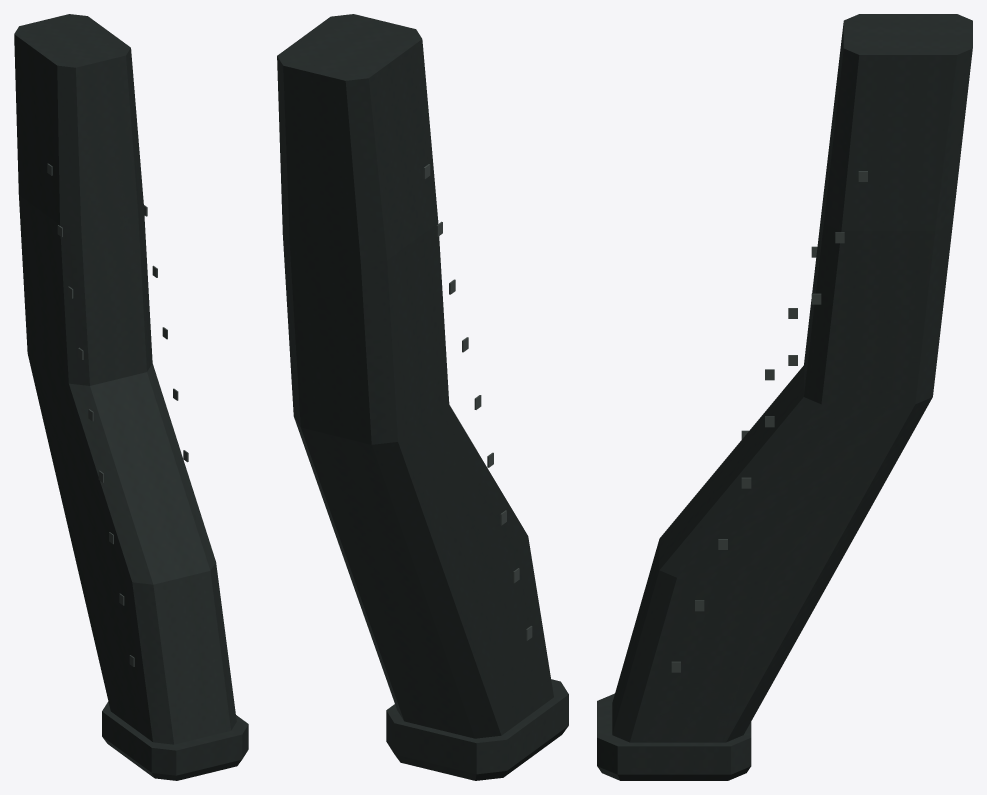
Rendered from glock_33.glb.
The picture shows the model from 3 angles, left to right: view 1: azimuth 30°, elevation 25°; view 2: azimuth 150°, elevation 25°; view 3: azimuth 270°, elevation 25°; orthographic projection. The views are drawn at different scales.
Visible parts, largest first — view 1: glock_33_shell_0, glock_33_shell_1, glock_33_witness; view 2: glock_33_shell_0, glock_33_shell_1, glock_33_witness; view 3: glock_33_shell_0, glock_33_shell_1, glock_33_witness.
Boxes of the visible parts, x1=… form: glock_33_shell_0: x1=14, y1=14, x2=248, y2=780; glock_33_shell_1: x1=28, y1=56, x2=151, y2=740; glock_33_witness: x1=47, y1=163, x2=188, y2=666; glock_33_shell_0: x1=277, y1=14, x2=568, y2=780; glock_33_shell_1: x1=283, y1=66, x2=552, y2=738; glock_33_witness: x1=423, y1=164, x2=532, y2=640; glock_33_shell_0: x1=597, y1=14, x2=972, y2=780; glock_33_shell_1: x1=634, y1=26, x2=932, y2=742; glock_33_witness: x1=671, y1=171, x2=867, y2=672.
Bounding box in the file's own units: 0.0405 × 0.253 × 0.1193.
2 materials, 1 textured.
